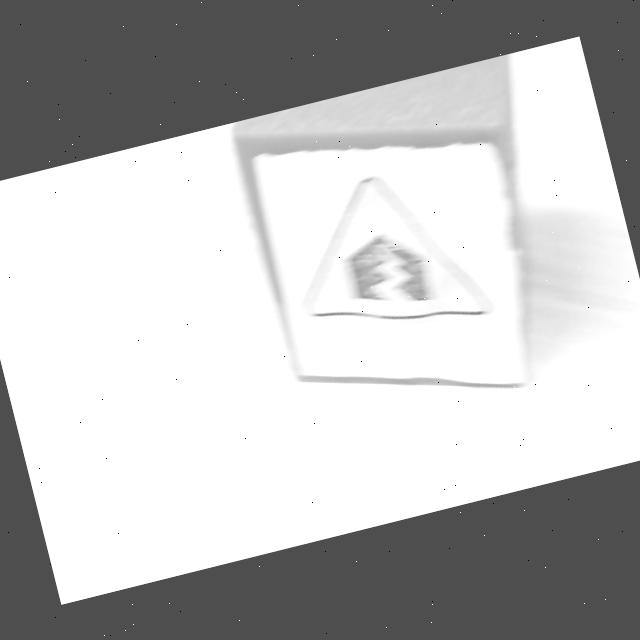Earthquake: (299, 176, 494, 324)
